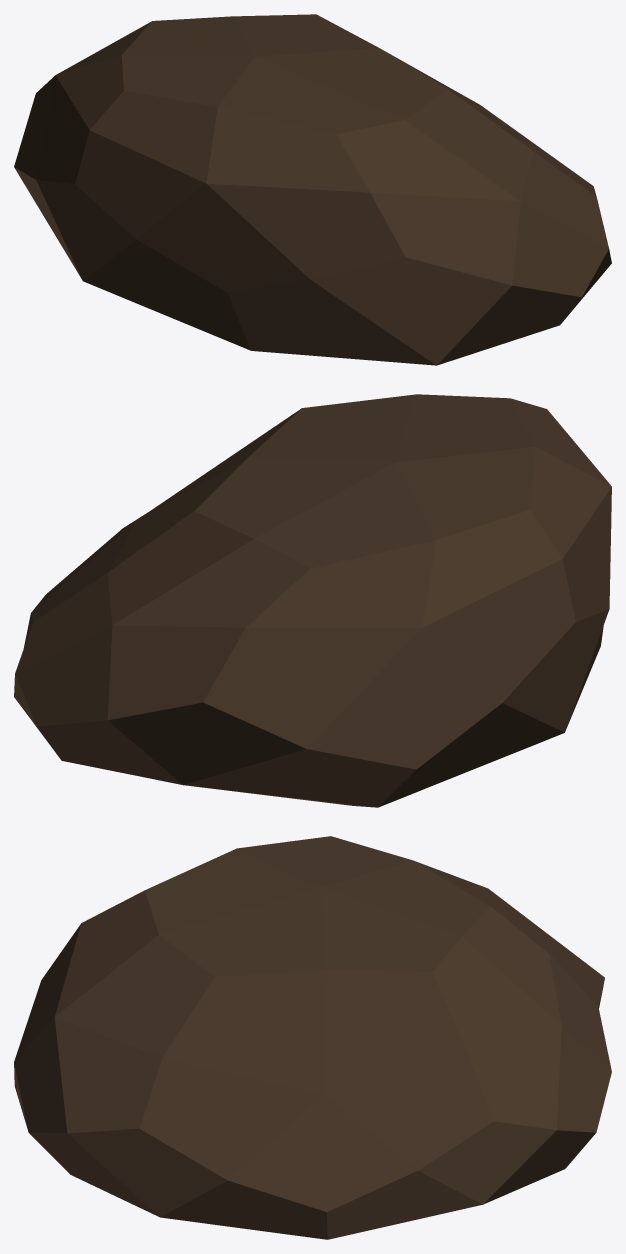
The model's file is Rock_4_Dark_Brown.fbx.
3 renders of one model, top to bottom at view 1: azimuth 30°, elevation 25°; view 2: azimuth 150°, elevation 25°; view 3: azimuth 270°, elevation 25°, orthographic. The views are drawn at different scales.
Visible parts, largest first — view 1: Rock_4_Dark_Brown; view 2: Rock_4_Dark_Brown; view 3: Rock_4_Dark_Brown.
Part boxes in pixels (x1,y1,x2,y2): Rock_4_Dark_Brown: (14,14,611,365); Rock_4_Dark_Brown: (14,394,611,807); Rock_4_Dark_Brown: (14,836,611,1239).
Bounding box in the file's own units: 344 × 168 × 391.
